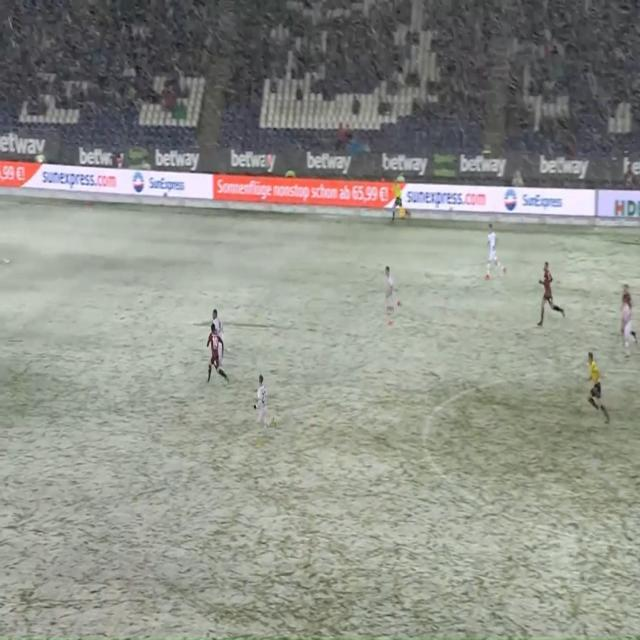ball: (264, 152, 276, 170)
player: (533, 246, 566, 335), (377, 252, 408, 330), (253, 364, 278, 447), (484, 215, 511, 291), (203, 320, 230, 394), (203, 298, 228, 368), (616, 271, 638, 346), (621, 297, 637, 360)
referee: (583, 339, 613, 435), (386, 181, 413, 233)
